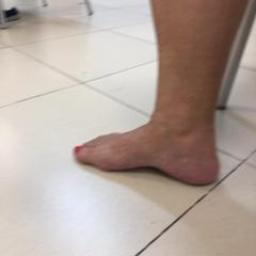Medial View -Right Foot-: (56, 81, 244, 197)
